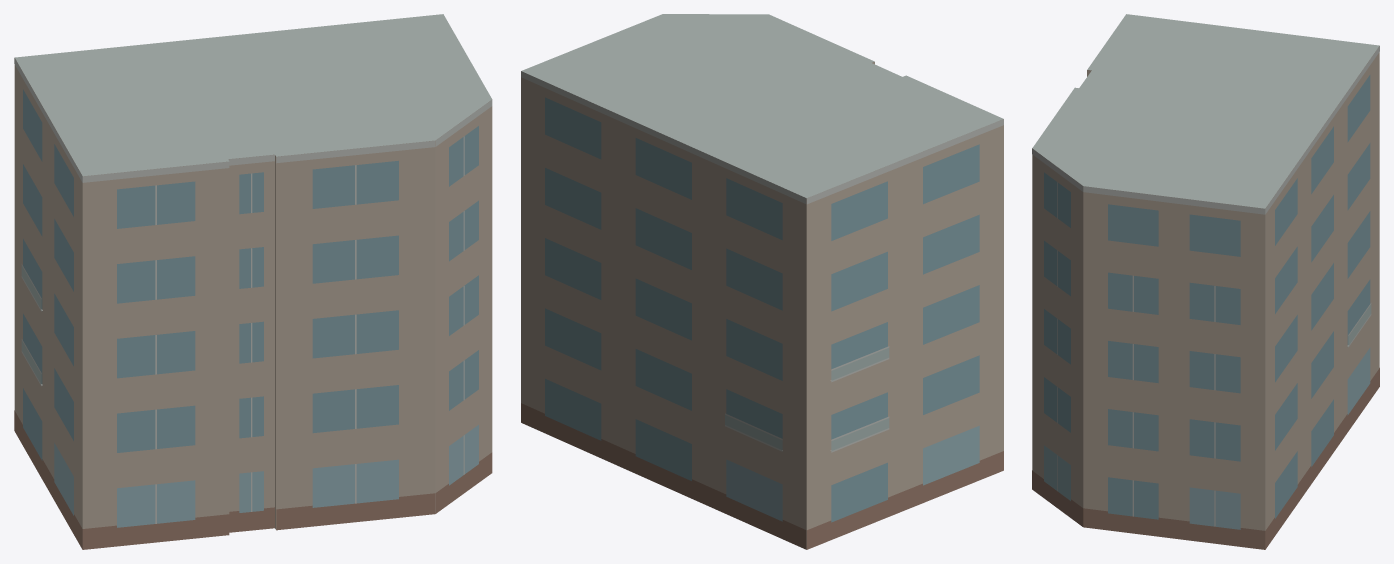
Rendered from survey-upis-33033776.glb.
The picture shows the model from 3 angles, left to right: view 1: azimuth 30°, elevation 25°; view 2: azimuth 150°, elevation 25°; view 3: azimuth 270°, elevation 25°; orthographic projection. The views are drawn at different scales.
Parts seen in each view (by area): view 1: survey-upis-33033776.tmp; view 2: survey-upis-33033776.tmp; view 3: survey-upis-33033776.tmp.
Boxes of the visible parts, x1,y1,x2,y2 form: survey-upis-33033776.tmp: (14,14,492,549); survey-upis-33033776.tmp: (521,14,1003,549); survey-upis-33033776.tmp: (1032,14,1379,549).
Bounding box in the file's own units: 16.9 × 13.8 × 12.75.
